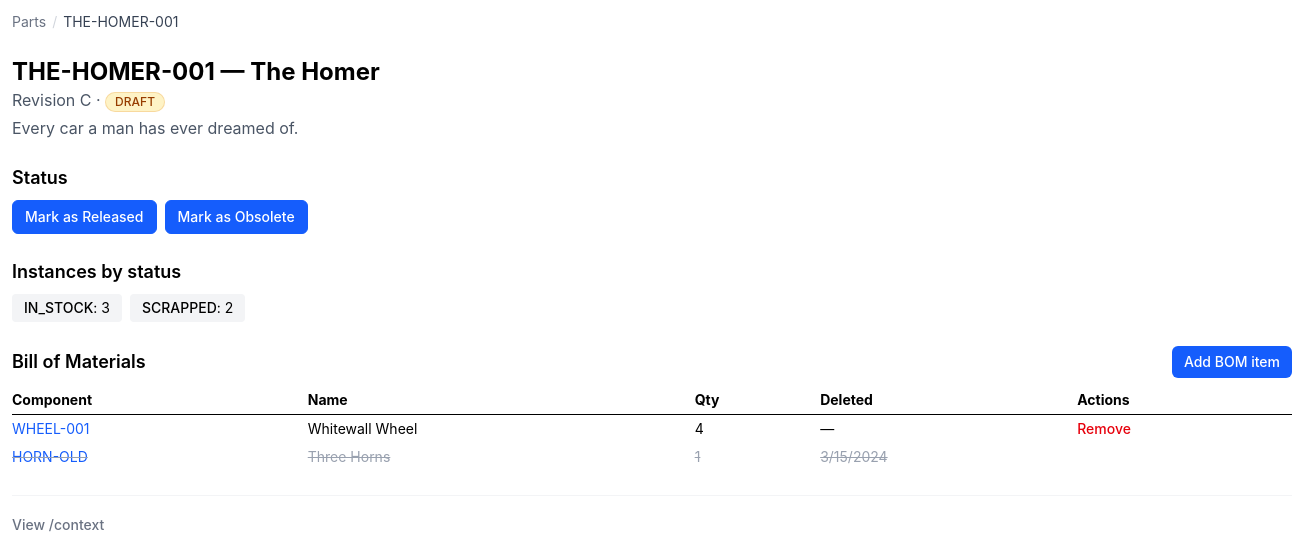
PartDetail › wraps a non-ApiError transition failure
Check: the heading "THE-HOMER-001 — The Homer" is shown, box x1=12 y1=57 x2=380 y2=86
Click the button "Mark as Released" at [84, 217], box x1=12 y1=200 x2=156 y2=234
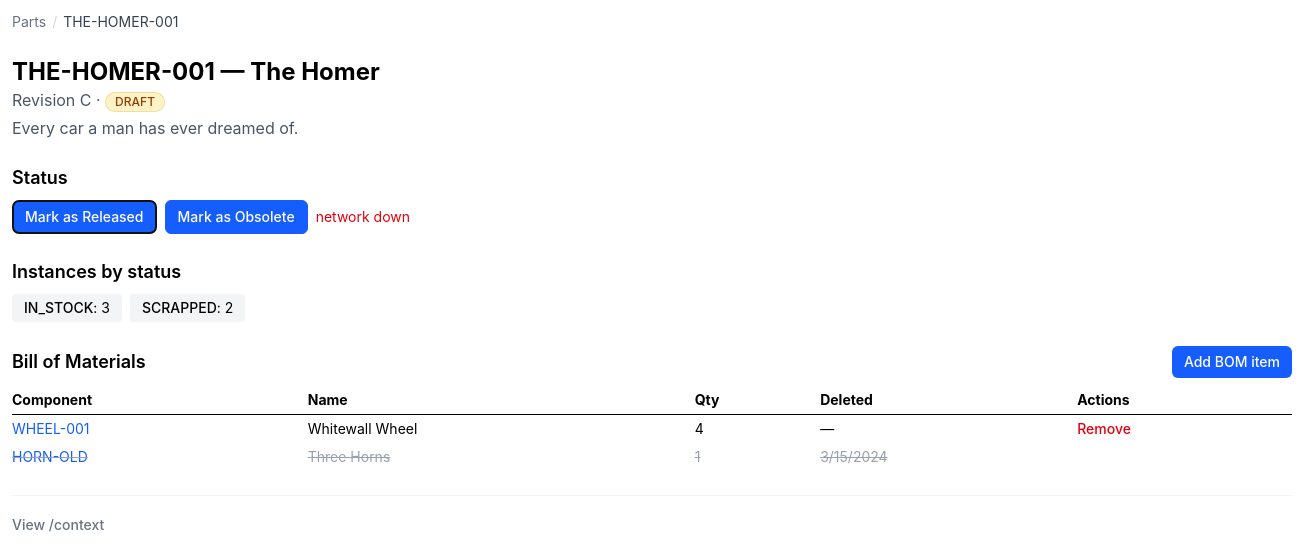
Check: the text "network down" is shown, box x1=316 y1=207 x2=410 y2=227
